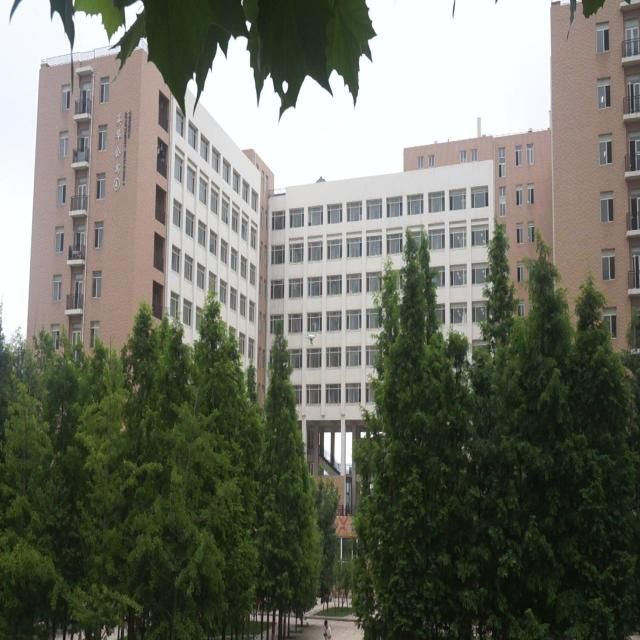drone: (306, 329, 316, 346)
